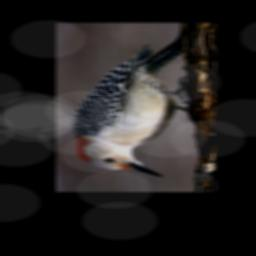Woodpecker: (72, 43, 195, 177)
